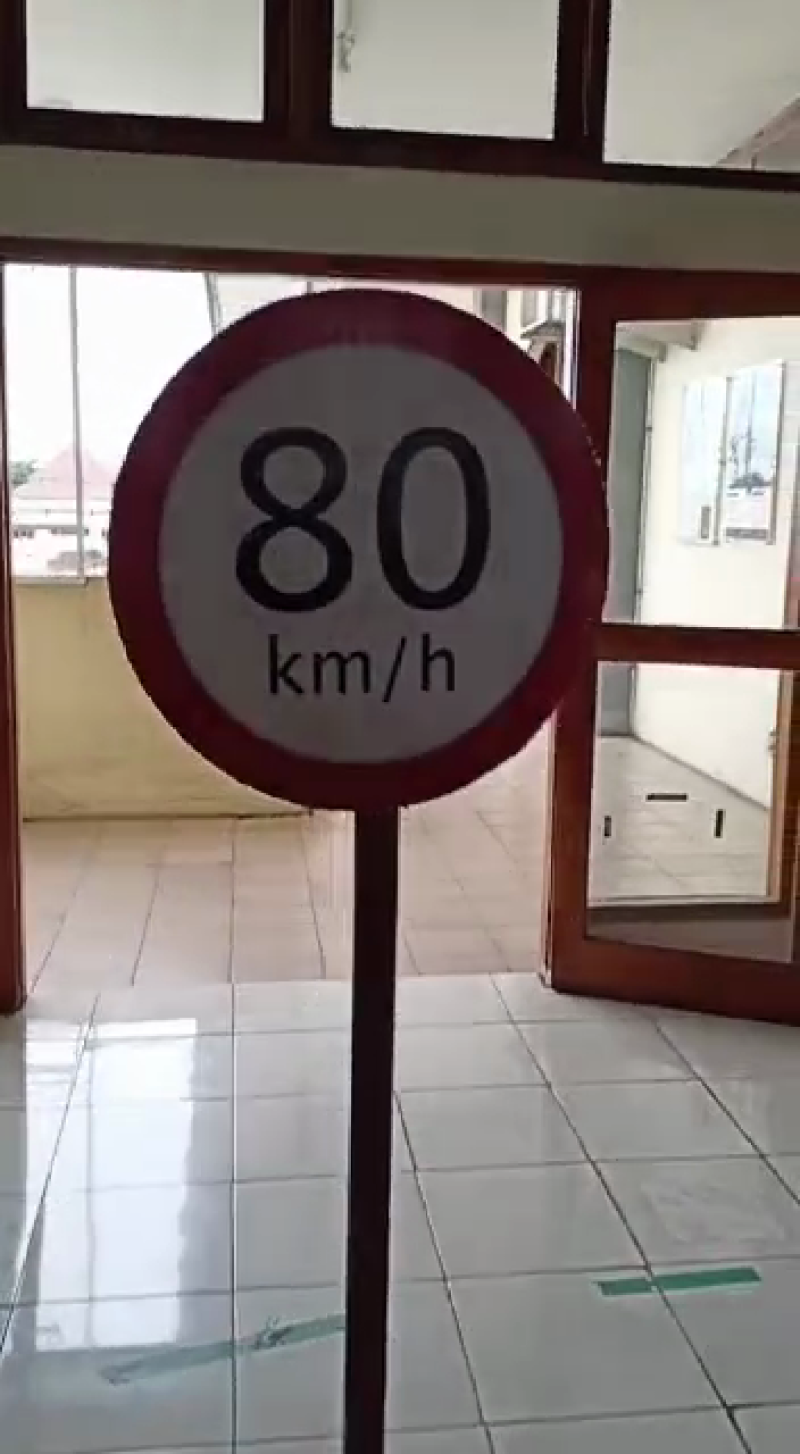batas maksimal 80kmperjam: (110, 283, 605, 816)
